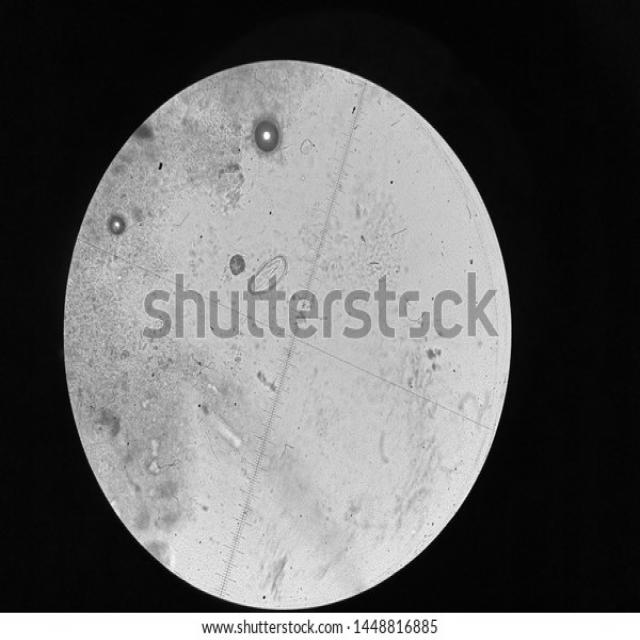Enterobius Vermicularis: (243, 251, 287, 300)
